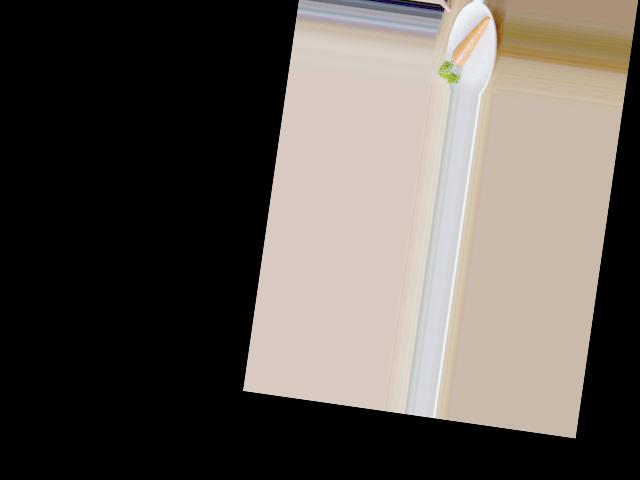carrot: (447, 9, 491, 74)
